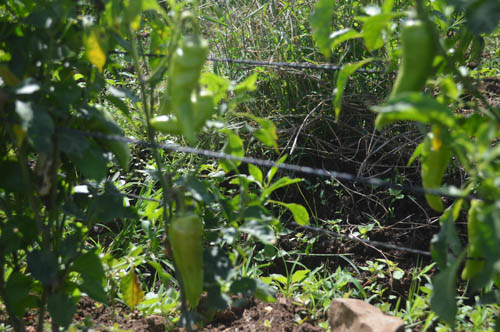ChiliPepper: (376, 22, 427, 127), (166, 215, 207, 310), (170, 37, 205, 141), (147, 96, 220, 139), (418, 142, 443, 208)
